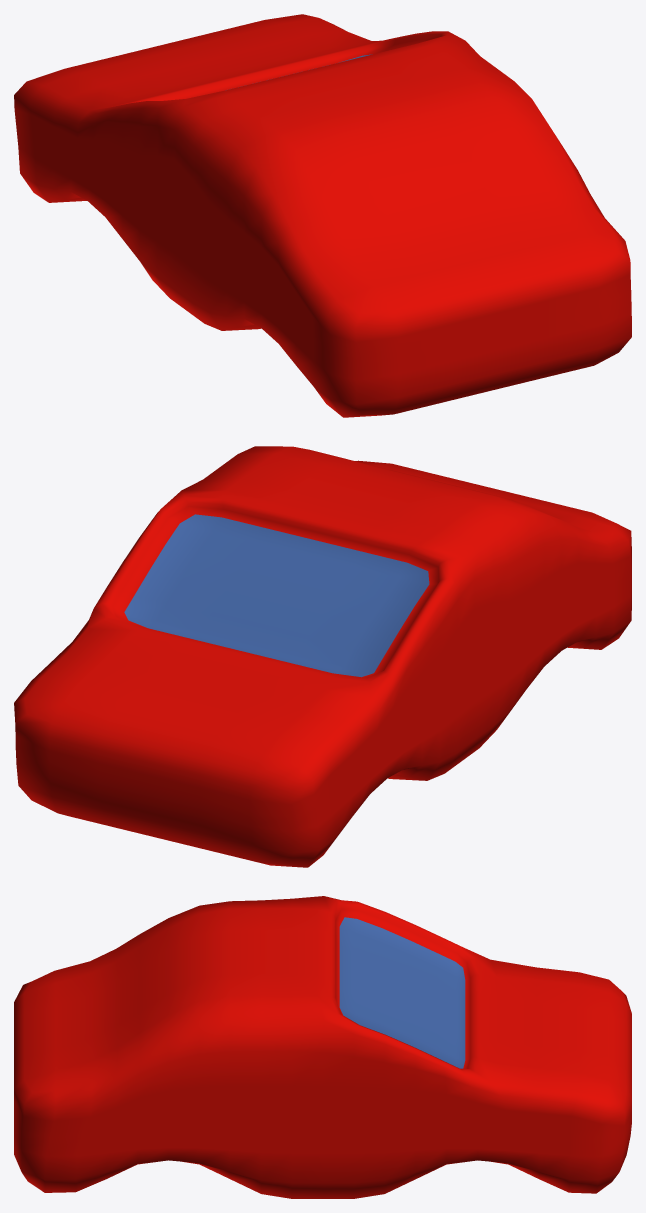
The model's file is car.FBX.
The picture shows the model from 3 angles, top to bottom: view 1: azimuth 30°, elevation 25°; view 2: azimuth 150°, elevation 25°; view 3: azimuth 270°, elevation 25°; orthographic projection. The views are drawn at different scales.
Parts seen in each view (by area): view 1: Box001; view 2: Box001; view 3: Box001.
Boxes of the visible parts, x1,y1,x2,y2 form: Box001: (14, 14, 631, 417); Box001: (14, 446, 631, 867); Box001: (14, 896, 631, 1198).
Size of the model in its own units: 59.06 by 40.95 by 118.
